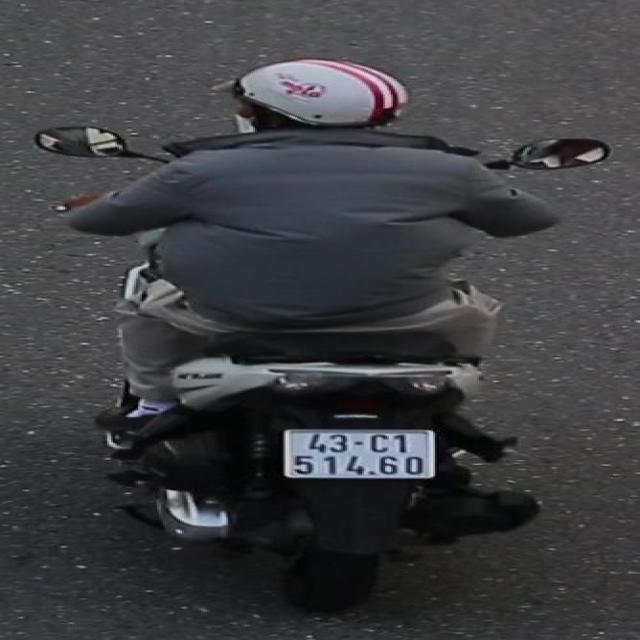LP: (276, 422, 441, 483)
helmet: (218, 54, 418, 147)
